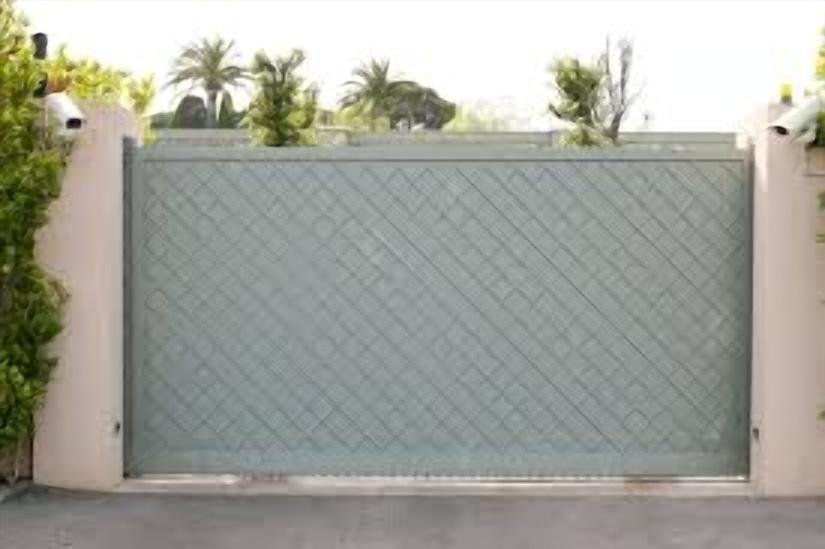Gate: (118, 128, 756, 476)
